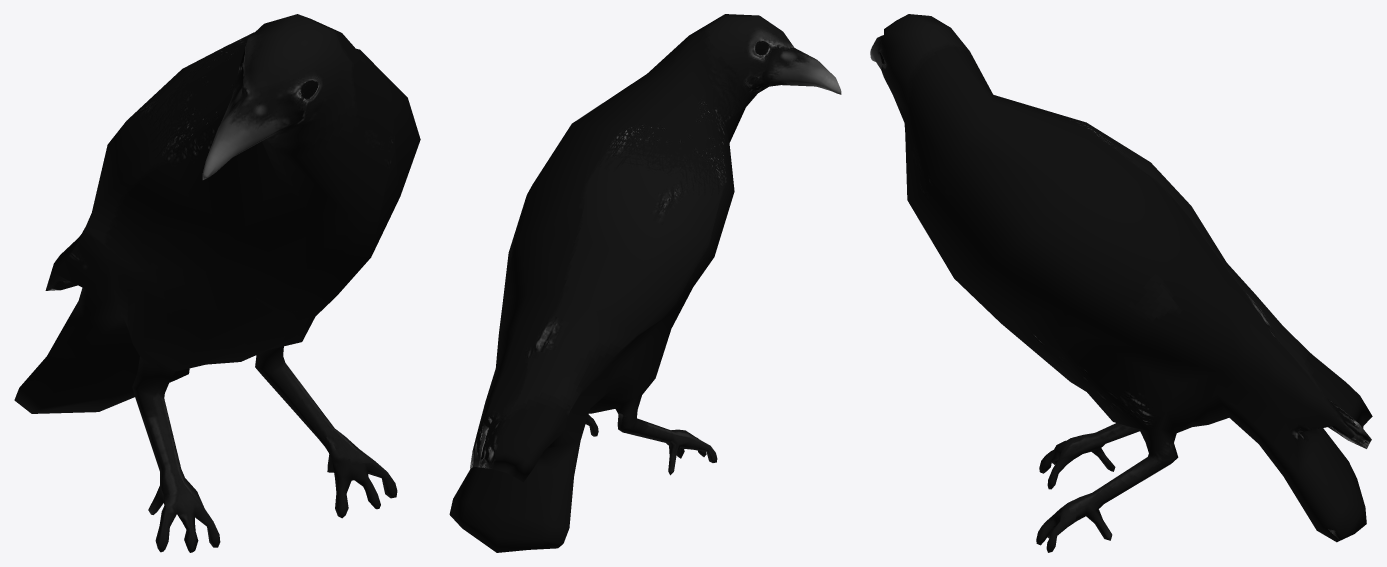
The model's file is Crow-2.obj.
The picture shows the model from 3 angles, left to right: view 1: azimuth 30°, elevation 25°; view 2: azimuth 150°, elevation 25°; view 3: azimuth 270°, elevation 25°; orthographic projection. The views are drawn at different scales.
Visible parts, largest first — view 1: Crow_2; view 2: Crow_2; view 3: Crow_2.
Boxes of the visible parts, <box> form: Crow_2: <box>14,14,420,552</box>; Crow_2: <box>449,14,841,552</box>; Crow_2: <box>870,14,1372,552</box>.
Size of the model in its own units: 0.1058 by 0.1902 by 0.1805.
